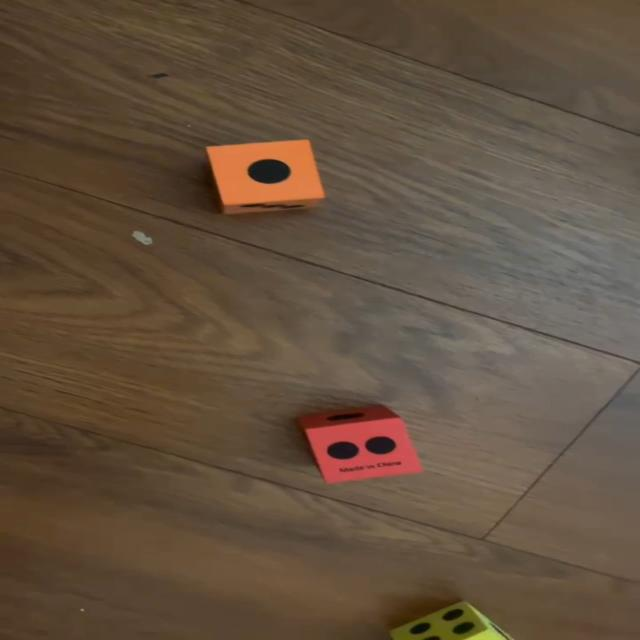red_block: (301, 406, 423, 484)
